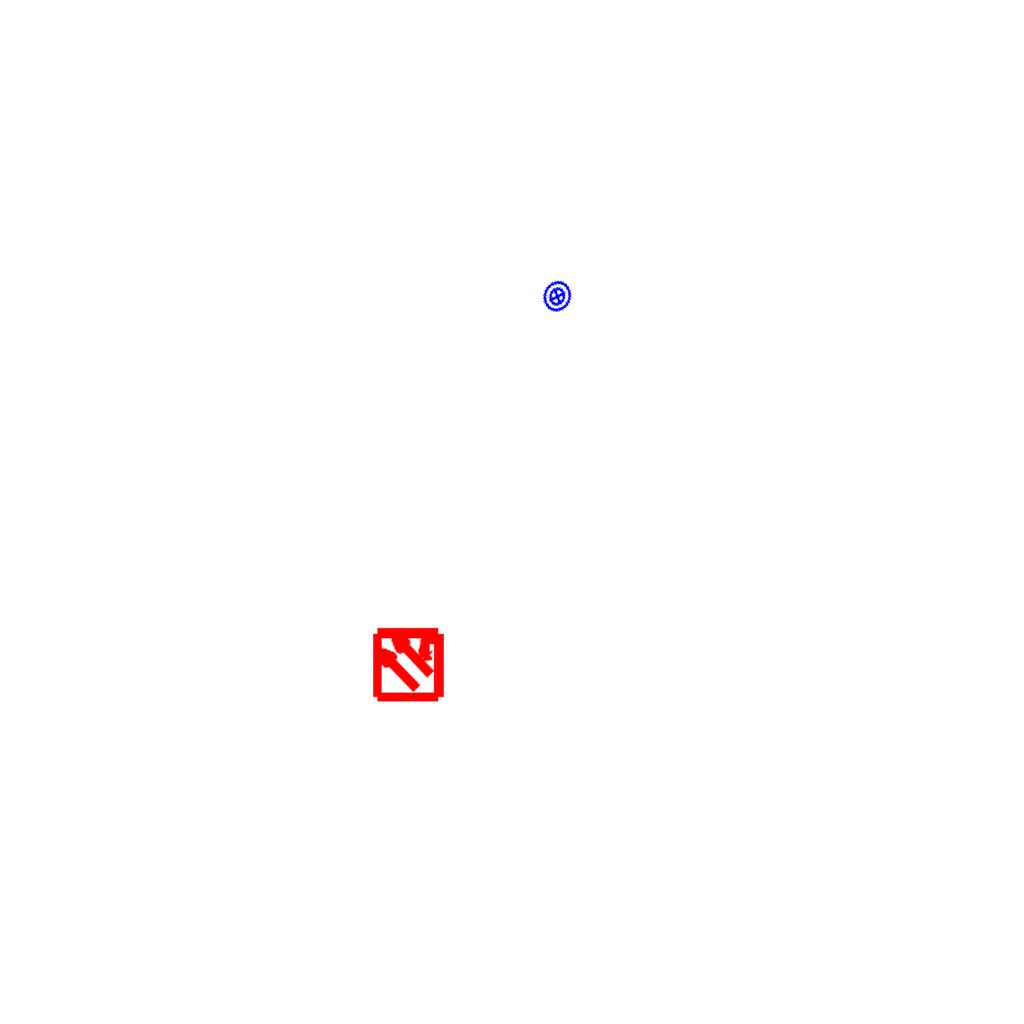OT_Multisensormelder_(Kombination_RMO_WMD): (352, 606, 465, 719)
Taster_beleuchtet: (536, 275, 579, 318)
